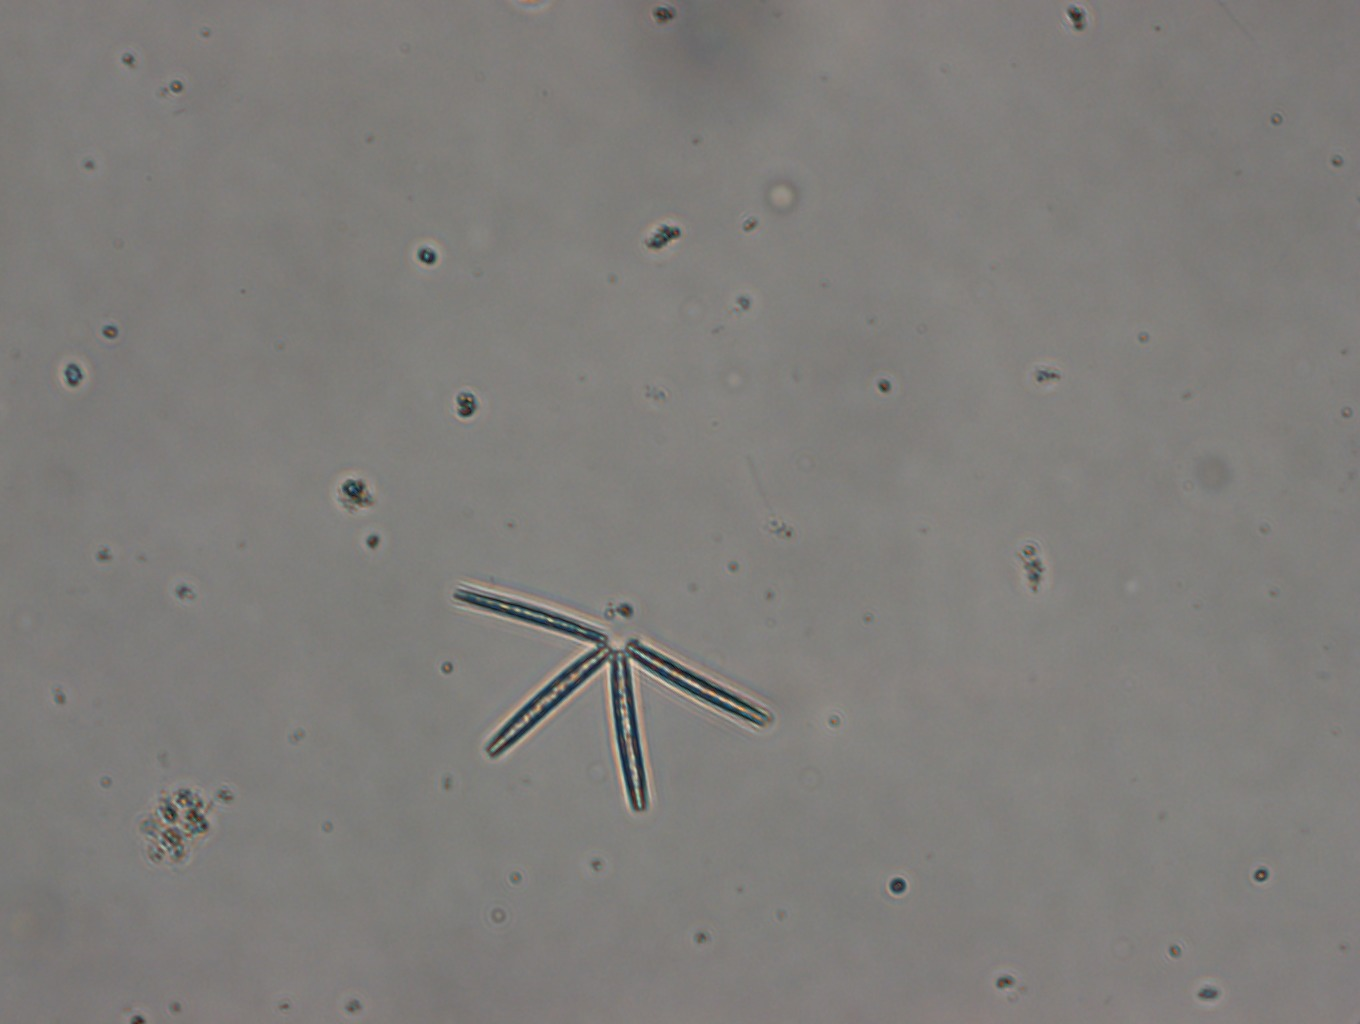thalassionema nitzschioides: (450, 580, 770, 809)
